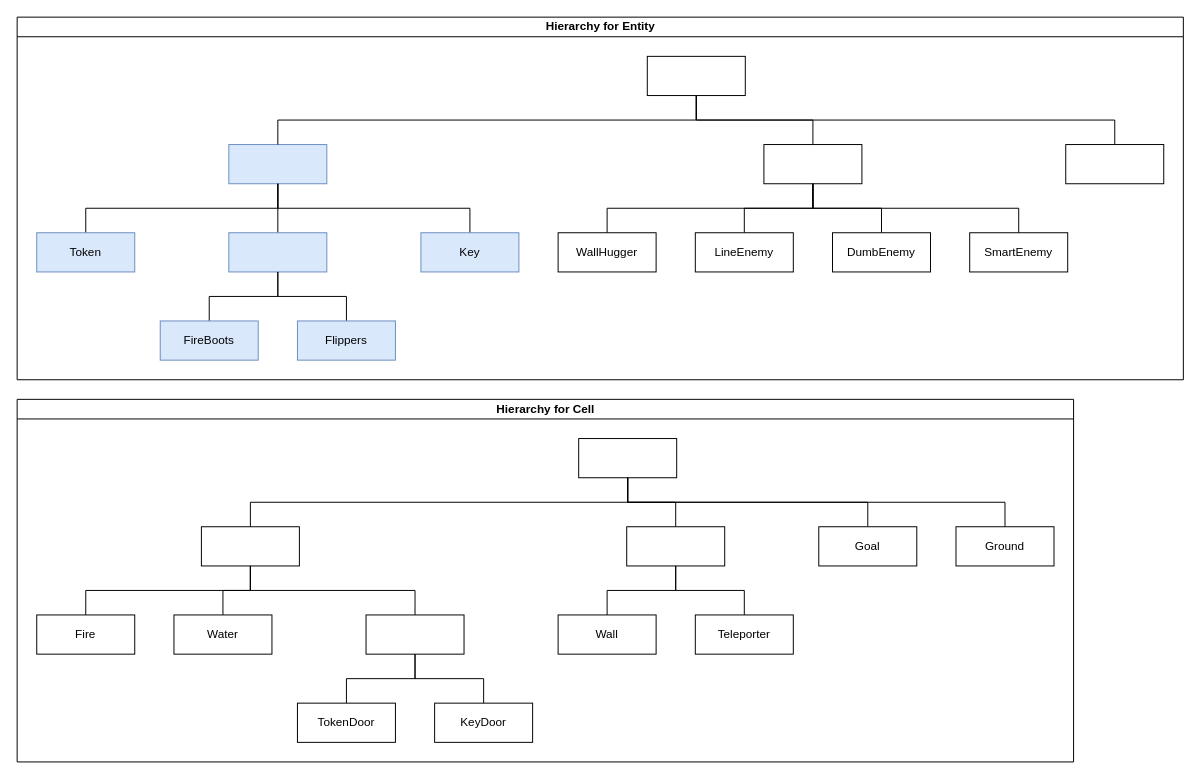
The diagram is 1201 pixels wide and 779 high, and some of its shapes have lost their labels. Here are the shapes that lost their labels. From the top down, the centre of each, then its label:
the point at 695,75: Entity
the point at 277,164: Item
the point at 812,164: Enemy
the point at 1114,164: Player
the point at 277,252: Equipment
the point at 627,458: Cell
the point at 249,546: Obstacle
the point at 675,546: Impassable
the point at 414,634: Door
